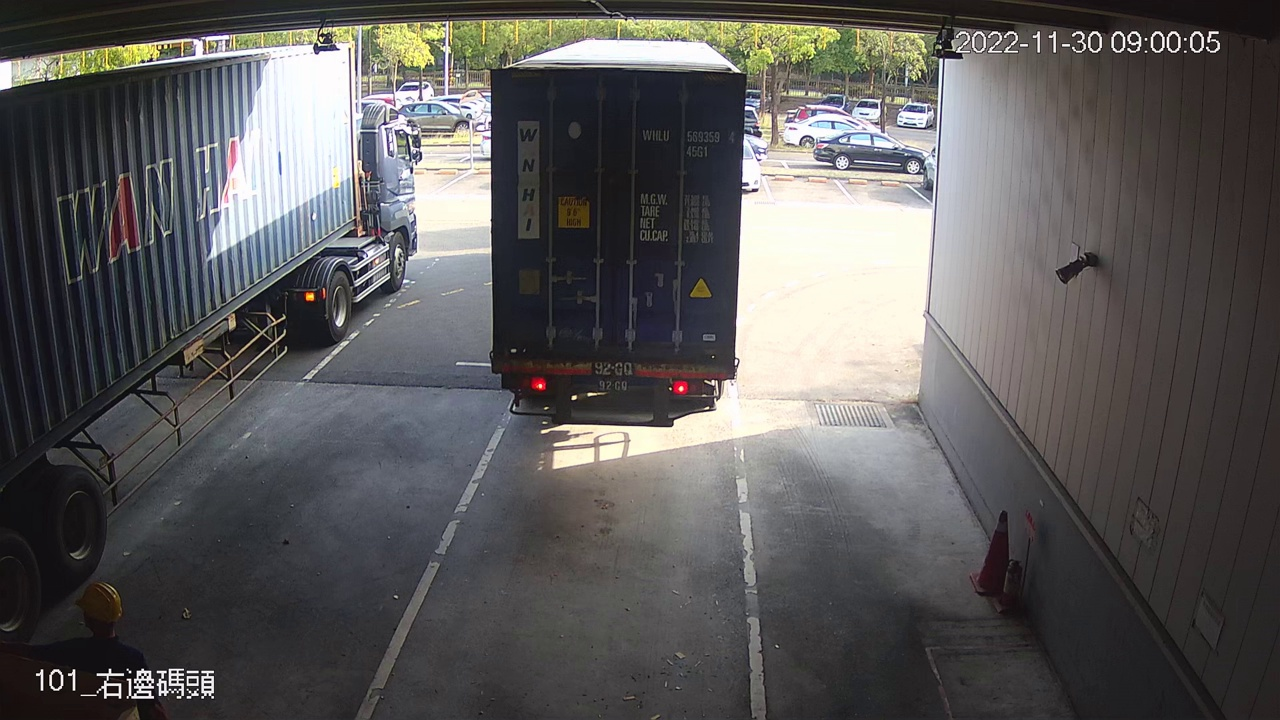container: (637, 123, 739, 163)
